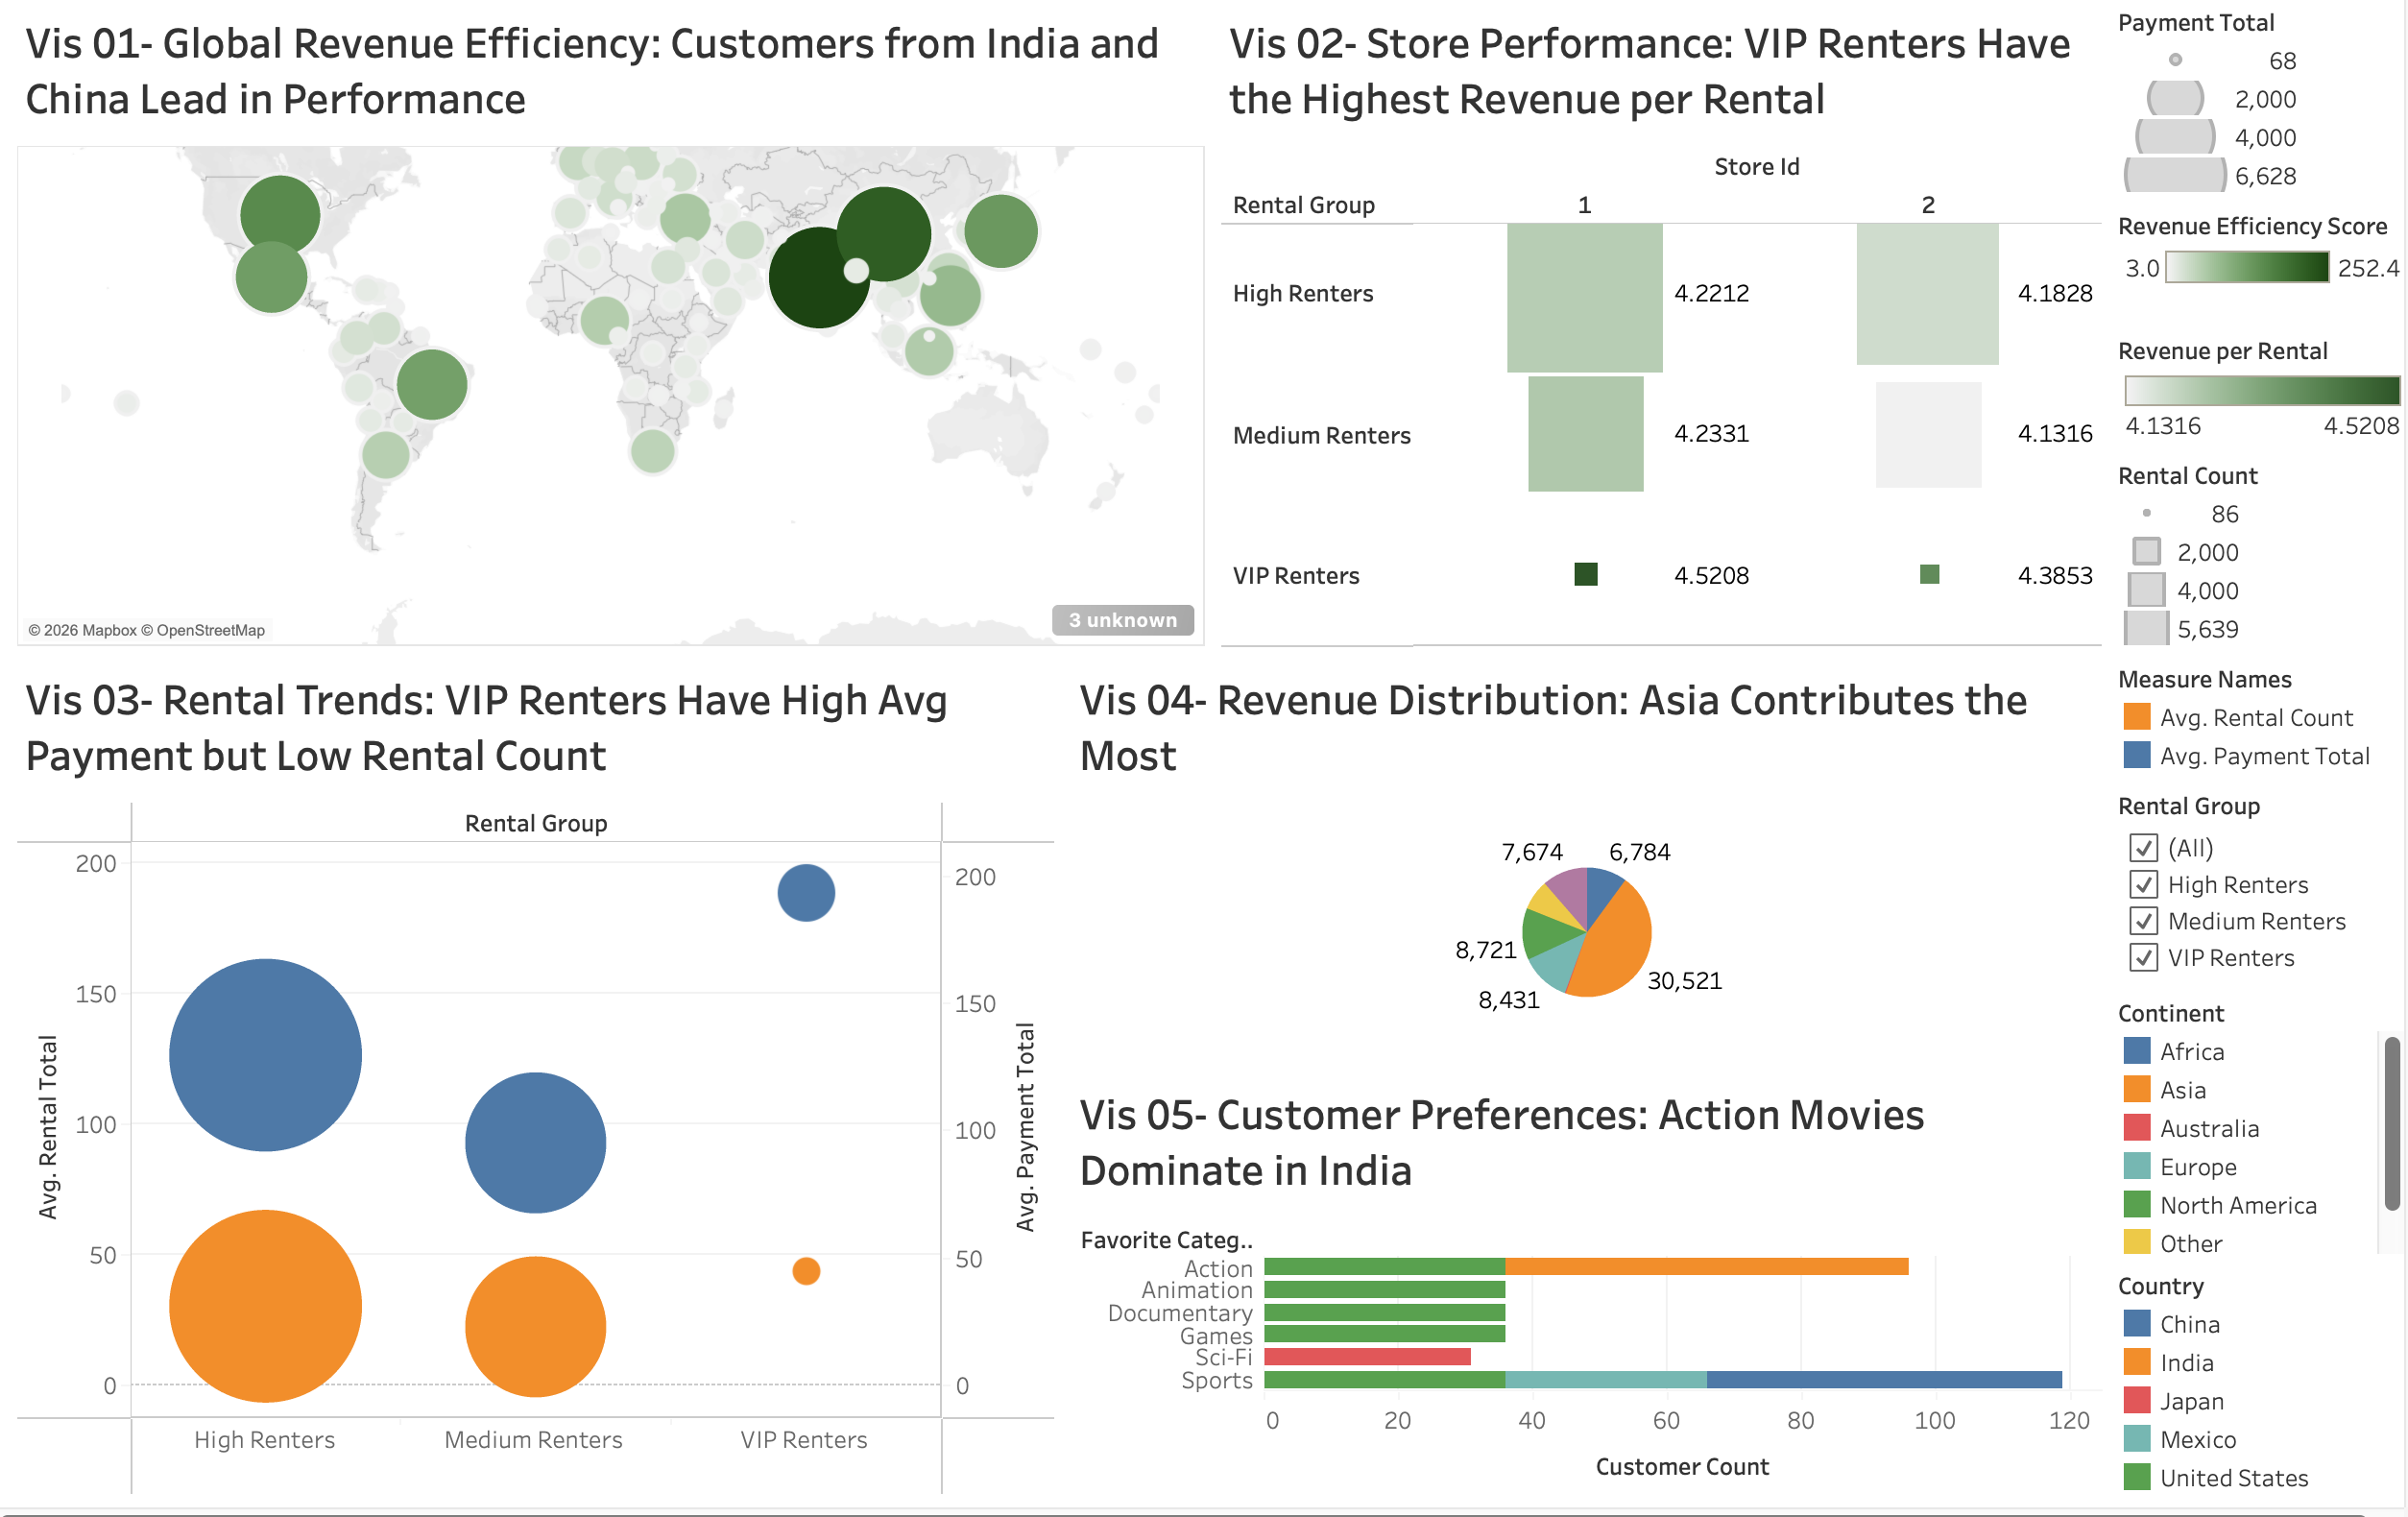

The dashboard page shown, as its layout file describes it:
{"tool":"tableau","page":{"name":"Dashboard 01","canvas":[1270,800],"ordinal":0},"visuals":[{"type":"worksheet","title":"Vis 01- Global Revenue Efficiency: Customers from India and China Lead in Performance","mark":"Automatic","box":[8,8,627,342]},{"type":"worksheet","title":"Vis 02- Store Performance: VIP Renters Have the Highest Revenue per Rental","mark":"Square","rows":["rental_group"],"cols":["store_id"],"box":[635,8,467,342]},{"type":"legend","title":"Vis 01- Global Revenue Efficiency: Customers from India and China Lead in Performance","param":"[federated.0ch6fhd1gpsgng1c4nhwm0vsw0k3].[sum:payment_total:qk]","box":[1102,8,160,106]},{"type":"legend","title":"Vis 01- Global Revenue Efficiency: Customers from India and China Lead in Performance","param":"[federated.0ch6fhd1gpsgng1c4nhwm0vsw0k3].[sum:Calculation_739997767263649795:qk]","box":[1102,114,160,65]},{"type":"legend","title":"Vis 02- Store Performance: VIP Renters Have the Highest Revenue per Rental","param":"[federated.0ch6fhd1gpsgng1c4nhwm0vsw0k3].[usr:Calculation_739997767234228225:qk]","box":[1102,179,160,65]},{"type":"legend","title":"Vis 02- Store Performance: VIP Renters Have the Highest Revenue per Rental","param":"[federated.0ch6fhd1gpsgng1c4nhwm0vsw0k3].[sum:rental_count:qk]","box":[1102,244,160,106]},{"type":"worksheet","title":"Vis 03- Rental Trends: VIP Renters Have High Avg Payment but Low Rental Count ","mark":"Automatic","rows":["payment_total"],"cols":["rental_group"],"box":[8,350,549,442]},{"type":"worksheet","title":"Vis 04- Revenue Distribution: Asia Contributes the Most","mark":"Pie","box":[557,350,545,216]},{"type":"legend","title":"Vis 03- Rental Trends: VIP Renters Have High Avg Payment but Low Rental Count ","param":"[federated.0ch6fhd1gpsgng1c4nhwm0vsw0k3].[:Measure Names]","box":[1102,350,160,66]},{"type":"filter","title":"Vis 04- Revenue Distribution: Asia Contributes the Most","param":"[federated.0ch6fhd1gpsgng1c4nhwm0vsw0k3].[none:rental_group:nk]","box":[1102,416,160,108]},{"type":"legend","title":"Vis 04- Revenue Distribution: Asia Contributes the Most","param":"[federated.0ch6fhd1gpsgng1c4nhwm0vsw0k3].[none:Calculation_739997767277633543:nk","box":[1102,524,160,142]},{"type":"worksheet","title":"Vis 05- Customer Preferences: Action Movies Dominate in India","mark":"Automatic","rows":["favorite_category"],"cols":["customer_count"],"box":[557,566,545,226]},{"type":"legend","title":"Vis 05- Customer Preferences: Action Movies Dominate in India","param":"[federated.1aqs5go1mk4ybs17typbz03xvm4w].[none:country:nk]","box":[1102,666,160,126]}]}

Visuals, with their boxes in screenshot pixels (x1, y1, x2, y2), scaled from the page's 1270x800 canvas onto the 2408x1517 screenshot:
"Vis 01- Global Revenue Efficiency: Customers from India and China Lead in Performance" worksheet: (left=15, top=15, right=1204, bottom=663)
"Vis 02- Store Performance: VIP Renters Have the Highest Revenue per Rental" worksheet (Square marks): (left=1204, top=15, right=2089, bottom=663)
"Vis 01- Global Revenue Efficiency: Customers from India and China Lead in Performance" legend: (left=2089, top=15, right=2393, bottom=216)
"Vis 01- Global Revenue Efficiency: Customers from India and China Lead in Performance" legend: (left=2089, top=216, right=2393, bottom=340)
"Vis 02- Store Performance: VIP Renters Have the Highest Revenue per Rental" legend: (left=2089, top=340, right=2393, bottom=463)
"Vis 02- Store Performance: VIP Renters Have the Highest Revenue per Rental" legend: (left=2089, top=463, right=2393, bottom=663)
"Vis 03- Rental Trends: VIP Renters Have High Avg Payment but Low Rental Count " worksheet: (left=15, top=663, right=1056, bottom=1502)
"Vis 04- Revenue Distribution: Asia Contributes the Most" worksheet (Pie marks): (left=1056, top=663, right=2089, bottom=1073)
"Vis 03- Rental Trends: VIP Renters Have High Avg Payment but Low Rental Count " legend: (left=2089, top=663, right=2393, bottom=789)
"Vis 04- Revenue Distribution: Asia Contributes the Most" filter: (left=2089, top=789, right=2393, bottom=994)
"Vis 04- Revenue Distribution: Asia Contributes the Most" legend: (left=2089, top=994, right=2393, bottom=1263)
"Vis 05- Customer Preferences: Action Movies Dominate in India" worksheet: (left=1056, top=1073, right=2089, bottom=1502)
"Vis 05- Customer Preferences: Action Movies Dominate in India" legend: (left=2089, top=1263, right=2393, bottom=1502)
